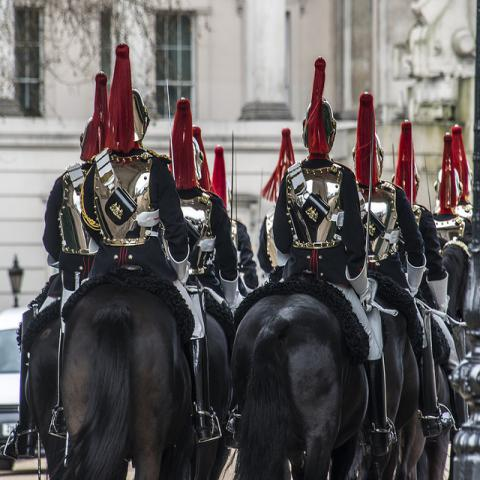car: (2, 309, 30, 437)
